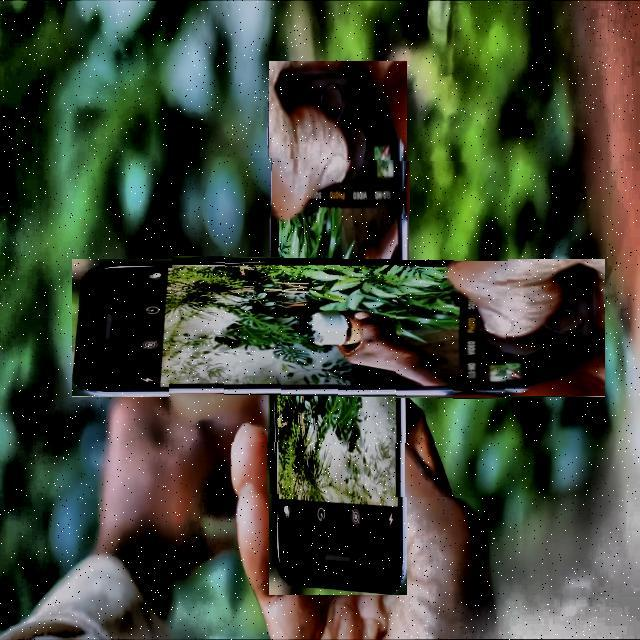Phone: (169, 158, 508, 498)
